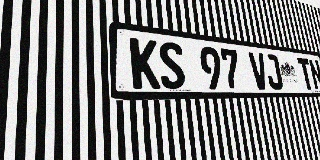7: (219, 48, 243, 89)
9: (199, 46, 224, 89)
J: (263, 54, 284, 90)
K: (130, 37, 161, 89)
N: (308, 59, 320, 90)
S: (158, 41, 186, 89)
T: (297, 58, 315, 90)
V: (248, 52, 270, 90)
